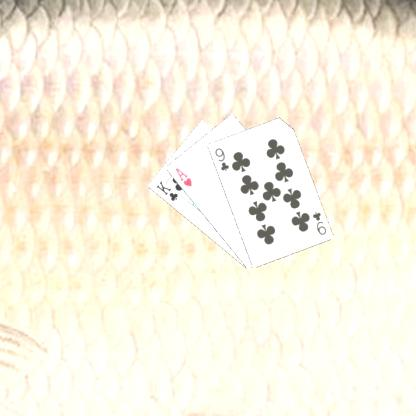9C: (212, 145, 230, 172), (310, 209, 327, 236)
AH: (172, 165, 193, 188)
KC: (153, 178, 184, 202)
